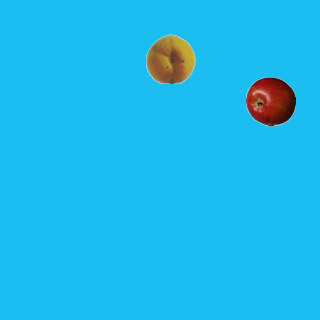Apple Braeburn: (245, 76, 295, 126)
Peach 2: (145, 33, 195, 83)
